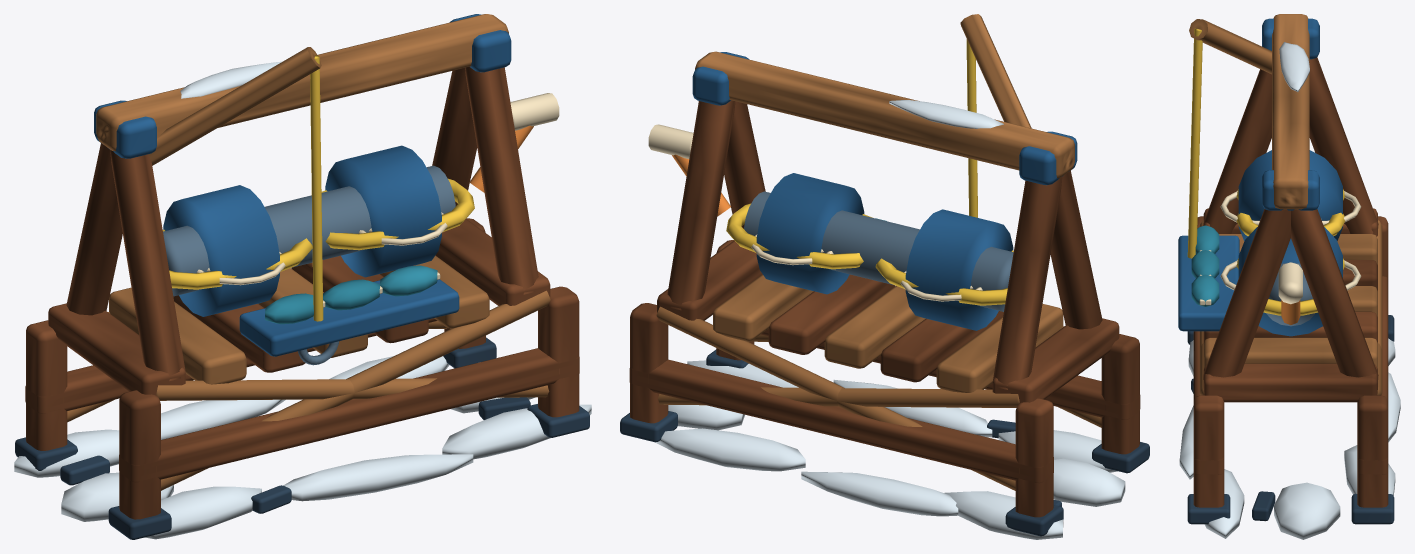
The model's file is fishing_rack.glb.
3 renders of one model, left to right at view 1: azimuth 30°, elevation 25°; view 2: azimuth 150°, elevation 25°; view 3: azimuth 270°, elevation 25°, orthographic. The views are drawn at different scales.
Parts seen in each view (by area): view 1: fishing_rack; view 2: fishing_rack; view 3: fishing_rack.
Boxes of the visible parts, x1=… form: fishing_rack: x1=14, y1=14, x2=591, y2=539; fishing_rack: x1=620, y1=14, x2=1149, y2=539; fishing_rack: x1=1178, y1=14, x2=1400, y2=539.
Size of the model in its own units: 2.98 by 2.59 by 1.3.
